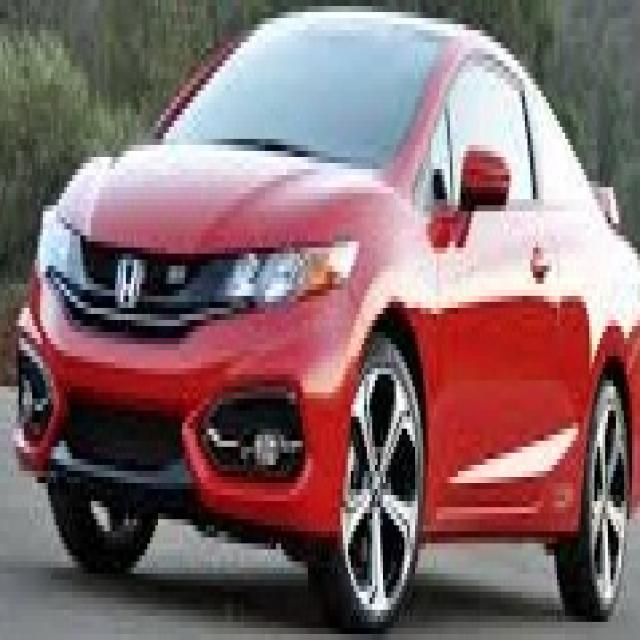red: (21, 8, 640, 566)
